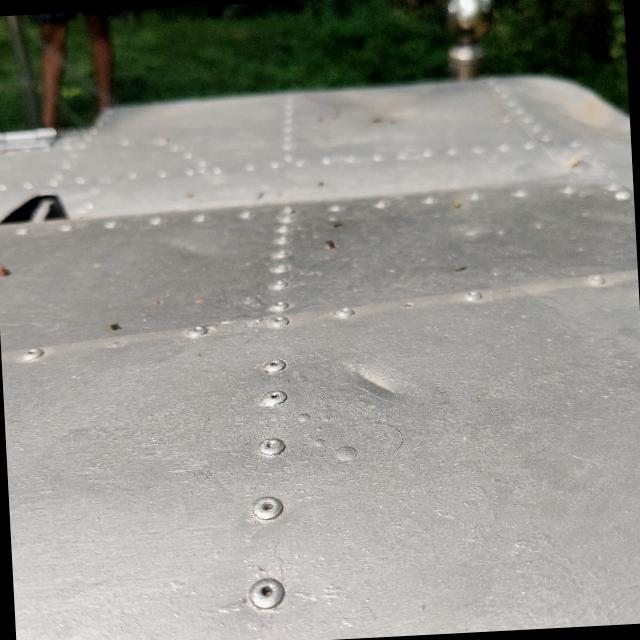dent: (320, 332, 432, 438)
